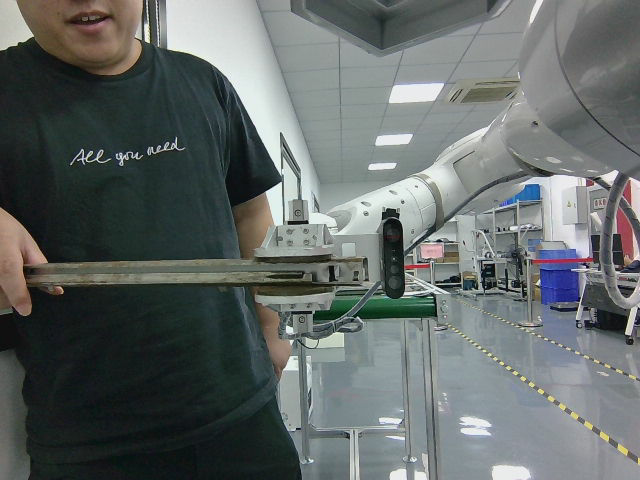down: (45, 258, 368, 286)
